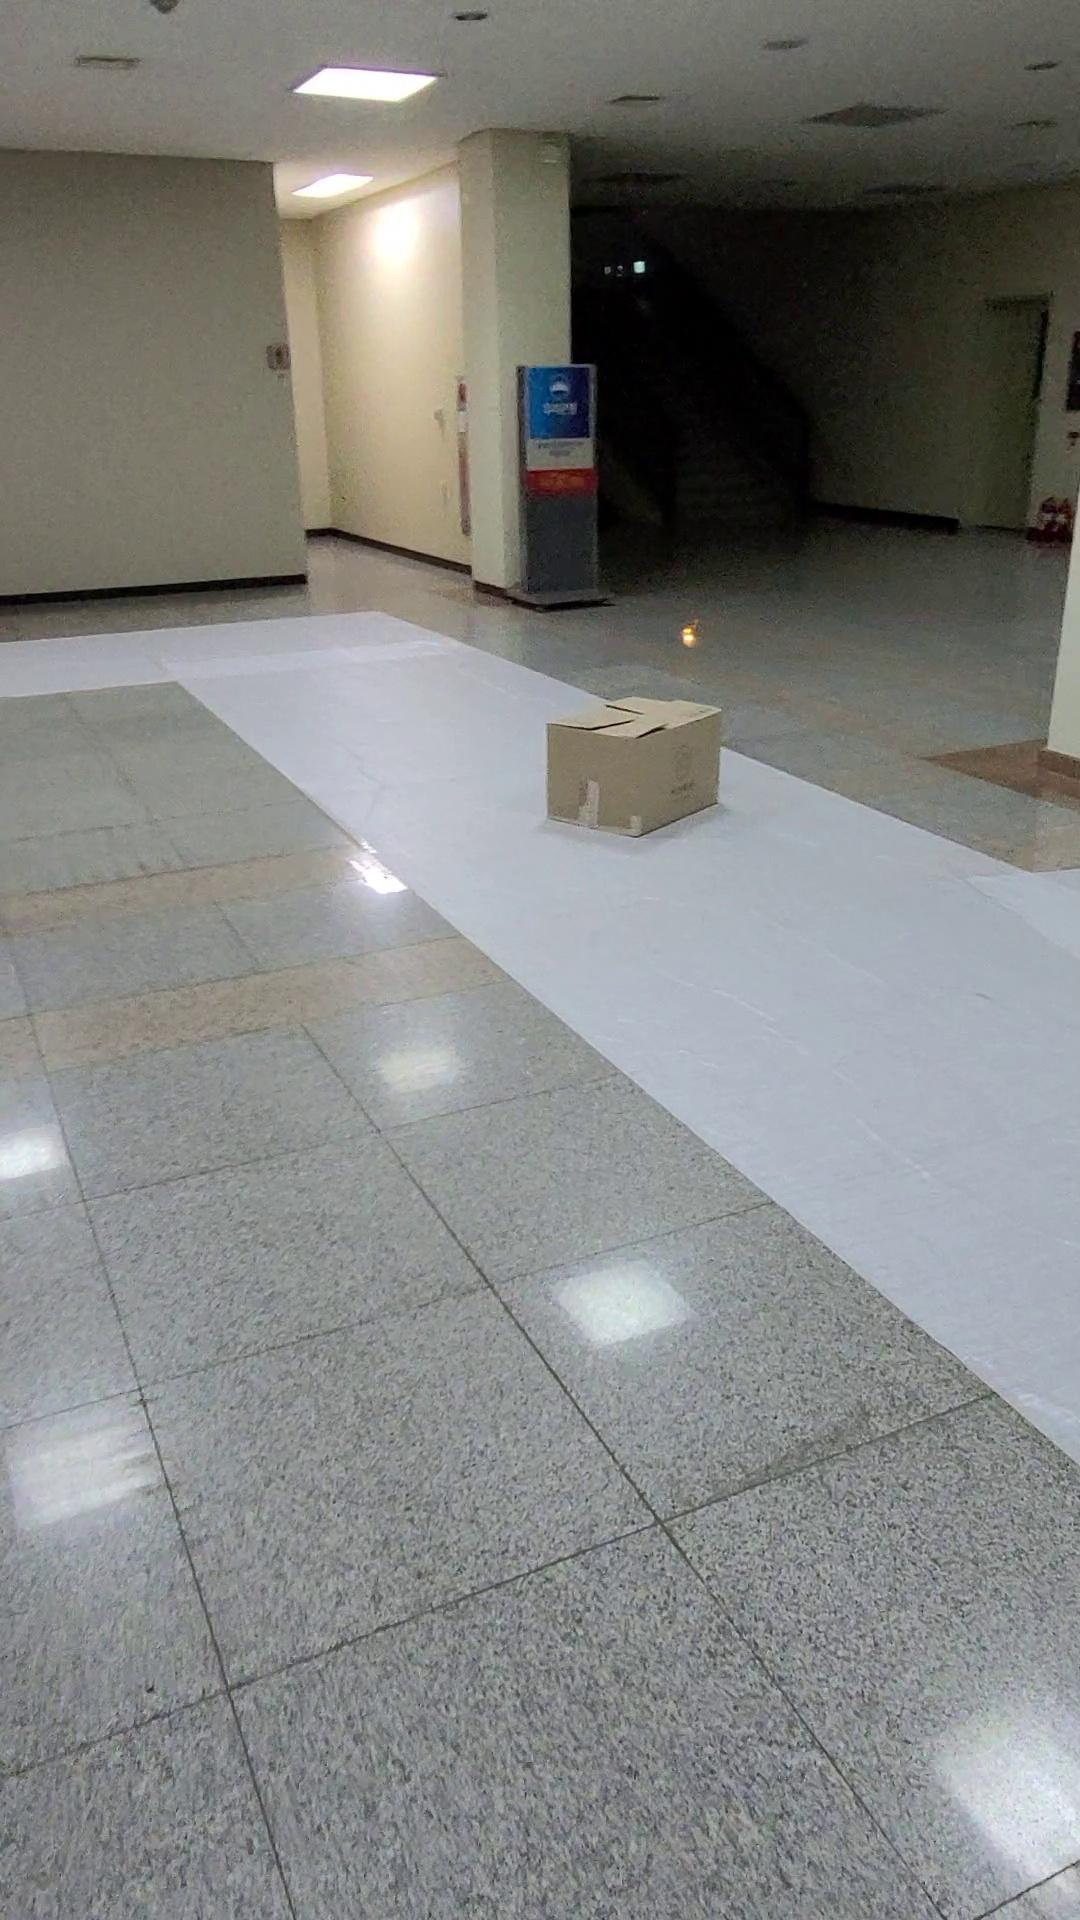Box: (531, 684, 757, 855)
